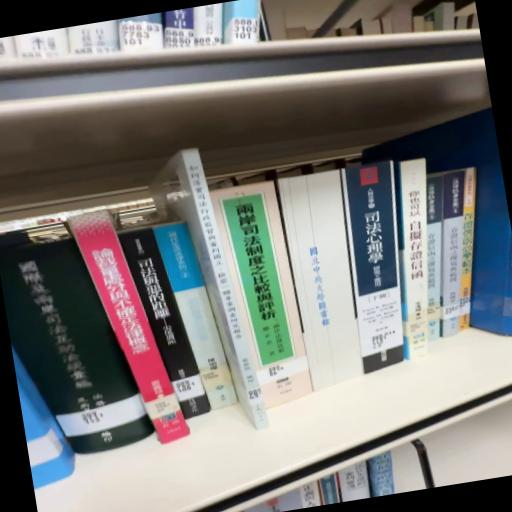backward: (278, 170, 363, 391)
book: (147, 145, 274, 440), (69, 204, 196, 459), (117, 216, 241, 433), (332, 164, 428, 380), (208, 179, 303, 370)
